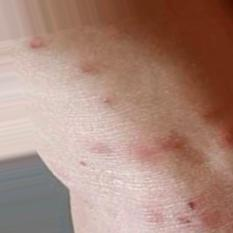Fleas: (163, 133, 189, 151), (88, 141, 112, 156), (79, 62, 103, 77), (29, 39, 50, 52), (188, 196, 204, 211), (145, 214, 166, 225), (177, 216, 194, 227), (101, 96, 111, 108)
